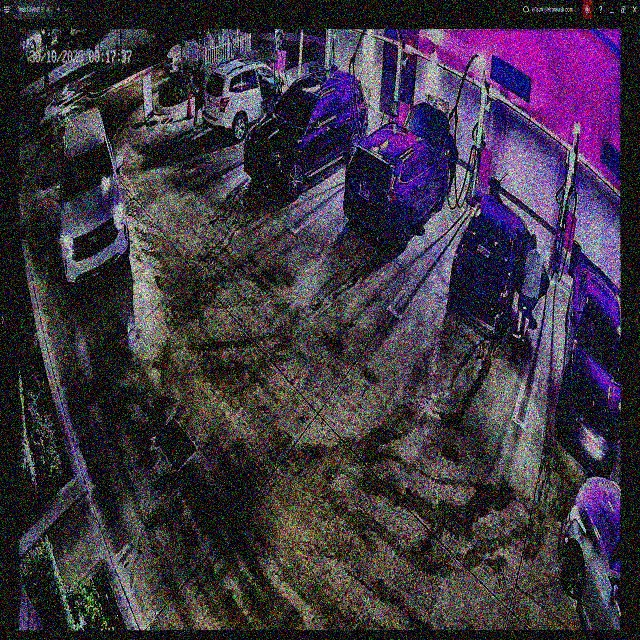Car: (348, 99, 449, 251), (249, 70, 367, 198), (452, 196, 546, 352)
